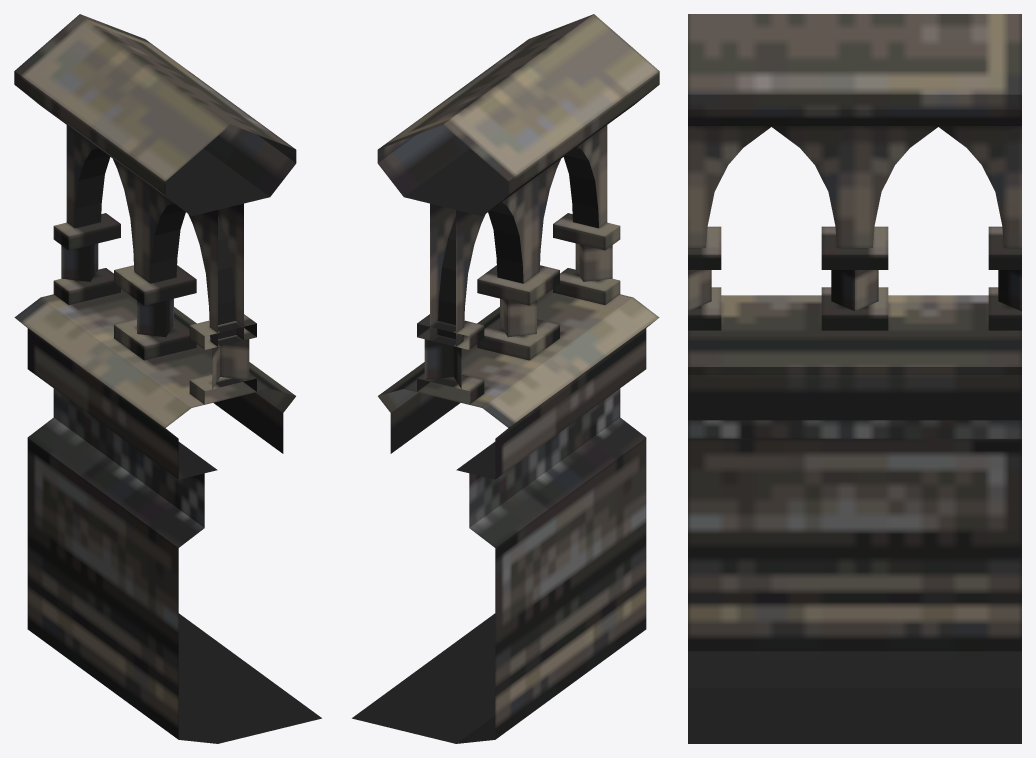
Rendered from EnvMdrMD_Castle_A_Fence_A_Junction.FBX.
3 renders of one model, left to right at view 1: azimuth 30°, elevation 25°; view 2: azimuth 150°, elevation 25°; view 3: azimuth 270°, elevation 25°, orthographic. The views are drawn at different scales.
Parts seen in each view (by area): view 1: EnvMdrMD_Castle_A_Fence_A_Junction; view 2: EnvMdrMD_Castle_A_Fence_A_Junction; view 3: EnvMdrMD_Castle_A_Fence_A_Junction.
Boxes of the visible parts, box(x1,y1,x2,y2) form: EnvMdrMD_Castle_A_Fence_A_Junction: box(14, 14, 321, 743); EnvMdrMD_Castle_A_Fence_A_Junction: box(352, 14, 659, 743); EnvMdrMD_Castle_A_Fence_A_Junction: box(688, 14, 1021, 743).
Size of the model in its own units: 60 by 225 by 100.
Materials: 1 (1 with a texture image).
